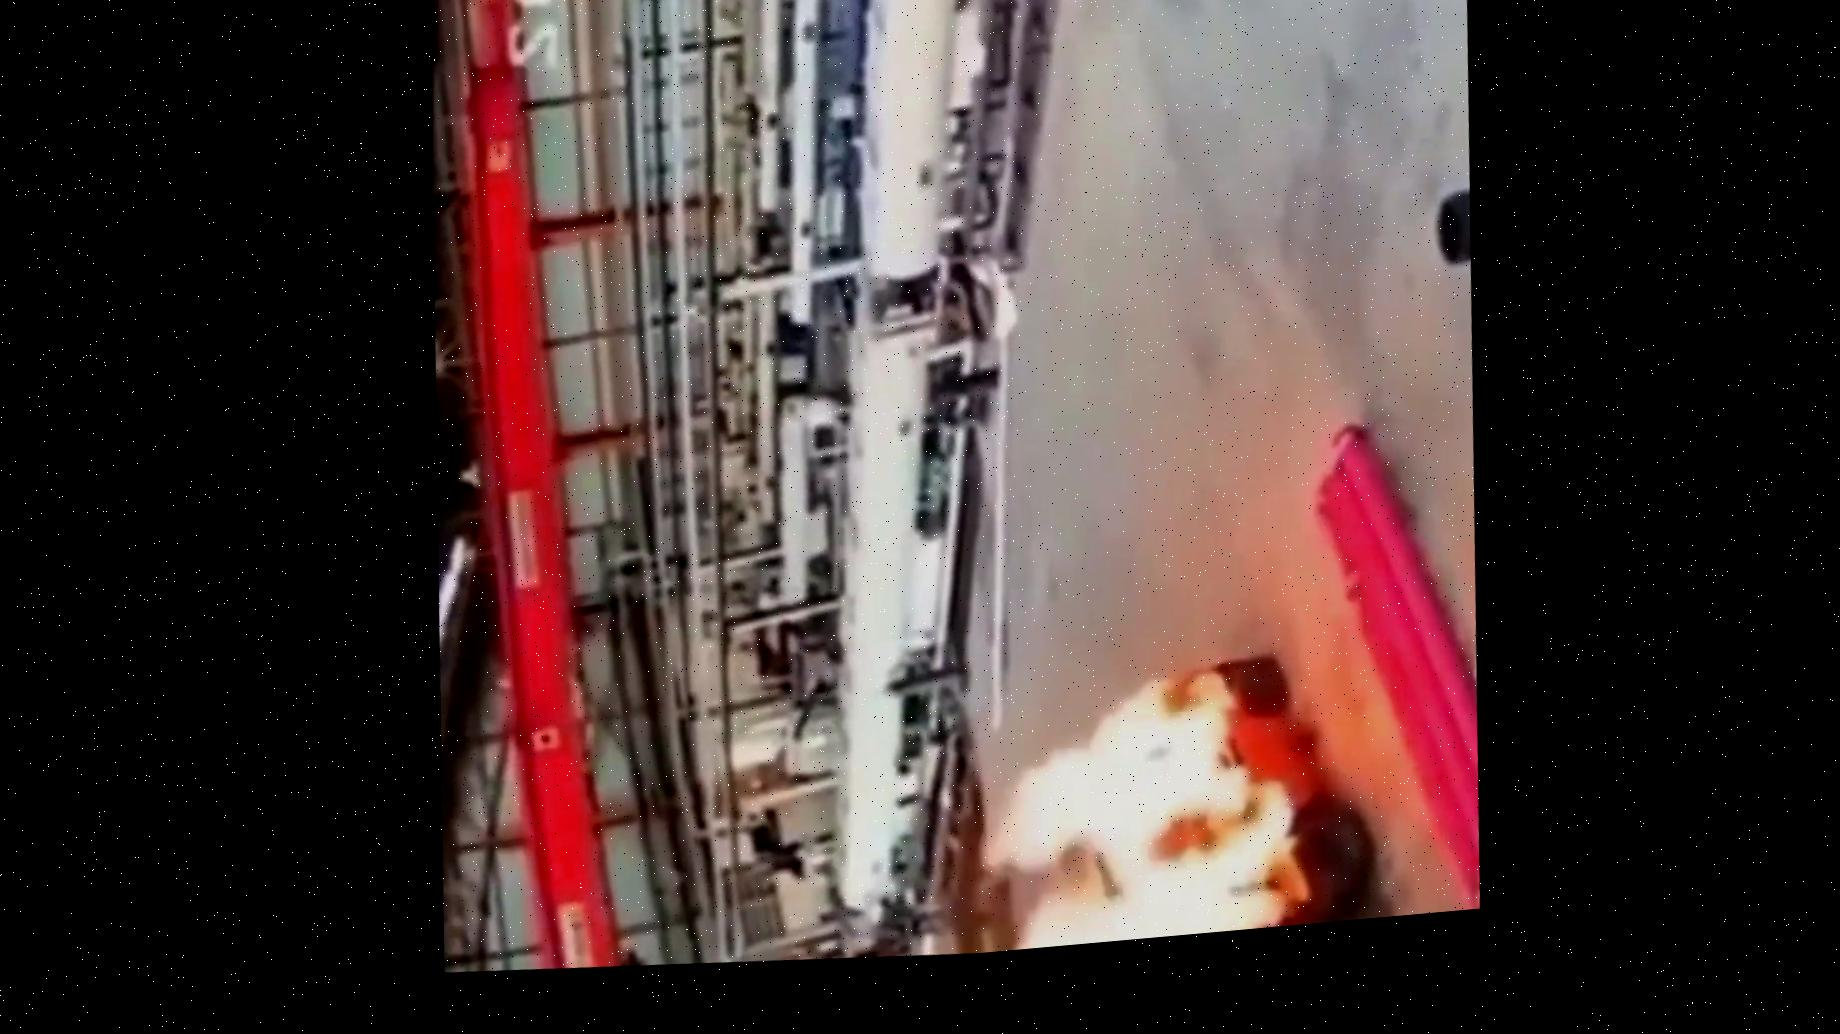fire: (901, 547, 1422, 954)
